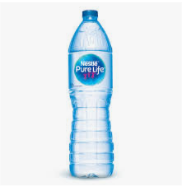Bottle: (69, 11, 112, 177)
